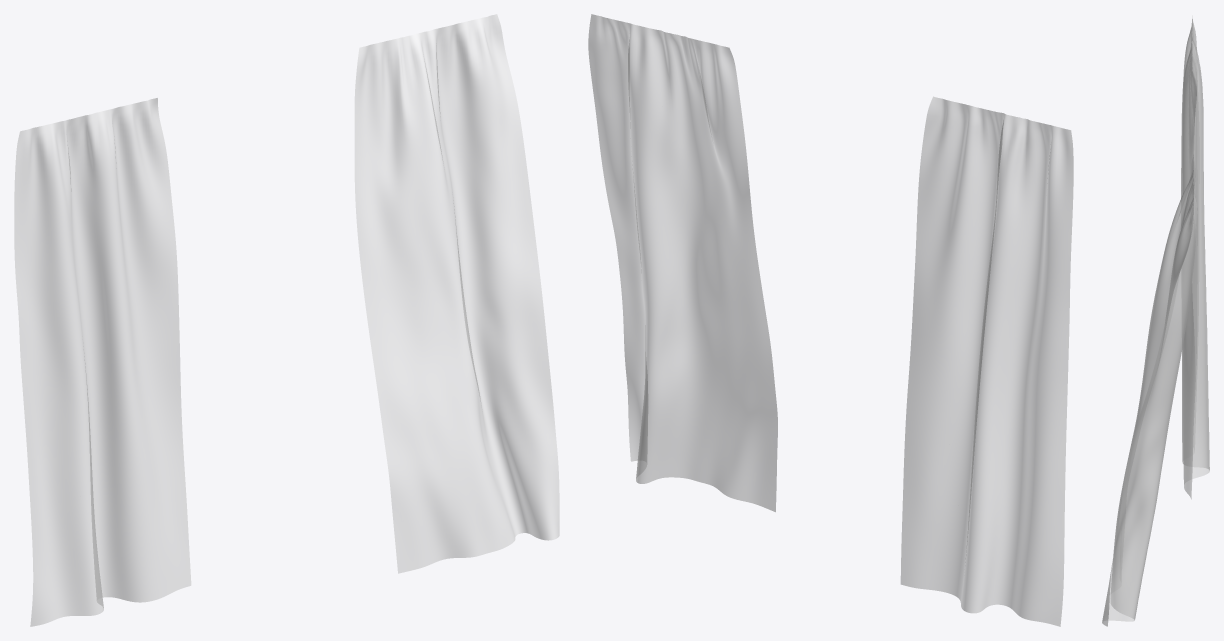
The model's file is cortina-sin.glb.
3 views of the same model, side by side, from view 1: azimuth 30°, elevation 25°; view 2: azimuth 150°, elevation 25°; view 3: azimuth 270°, elevation 25° (orthographic). The views are drawn at different scales.
Parts seen in each view (by area): view 1: Curtain1 CurtainWind1, Curtain1 CurtainNWind1; view 2: Curtain1 CurtainNWind1, Curtain1 CurtainWind1; view 3: Curtain1 CurtainWind1, Curtain1 CurtainNWind1.
Part boxes in pixels (<box>): Curtain1 CurtainWind1: <box>354,14,559,573</box>; Curtain1 CurtainNWind1: <box>14,98,191,626</box>; Curtain1 CurtainNWind1: <box>900,96,1073,626</box>; Curtain1 CurtainWind1: <box>588,14,777,511</box>; Curtain1 CurtainWind1: <box>1102,155,1196,626</box>; Curtain1 CurtainNWind1: <box>1181,16,1209,499</box>.
Size of the model in its own units: 2.43 by 2.34 by 0.5443.
Materials: 2 (2 with a texture image).
